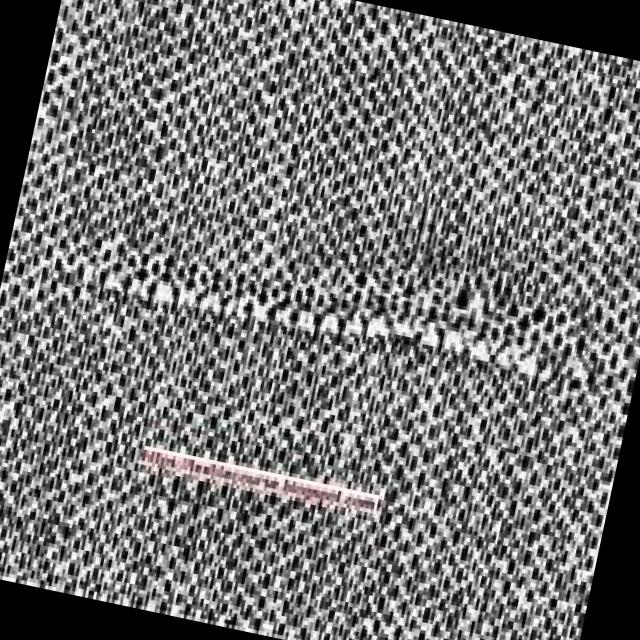color issues: (72, 176, 600, 410)
